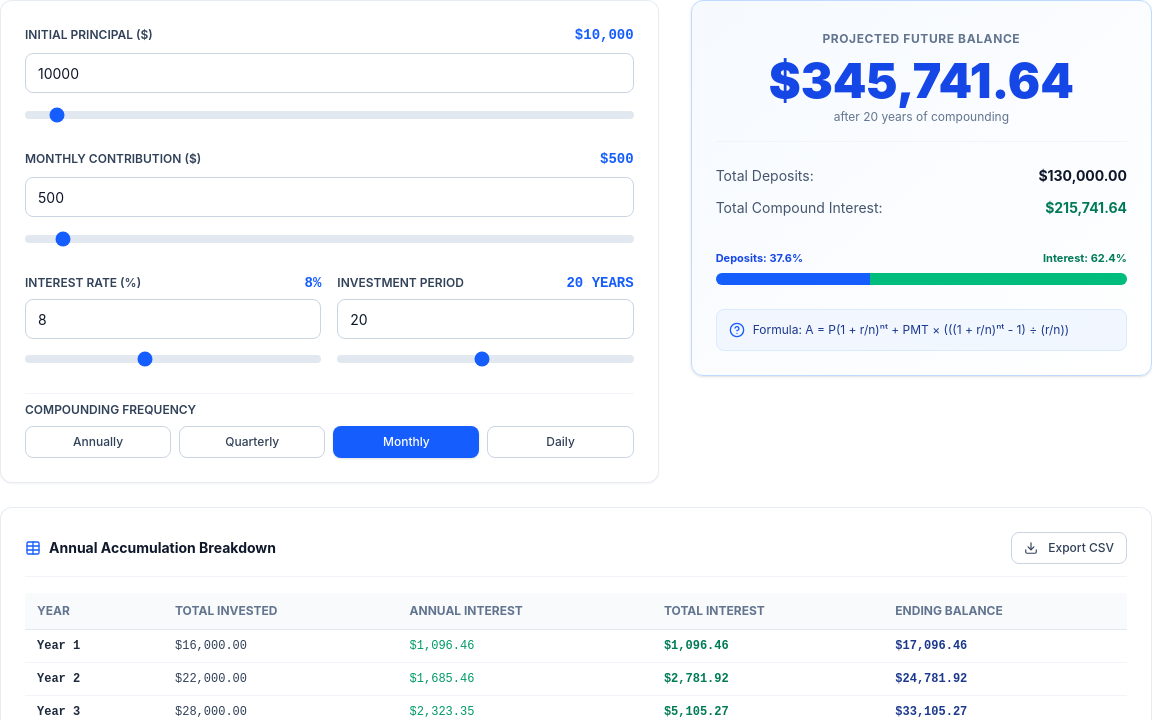
Test case: CALCULATOR TOOLS (4/4) › Compound Interest Calculator › handles 0% annual interest rate where future balance equals total deposits
Step 1. Replace the text in the number field named "annual interest rate" with "0" → (173, 319), box [25,299,321,339]
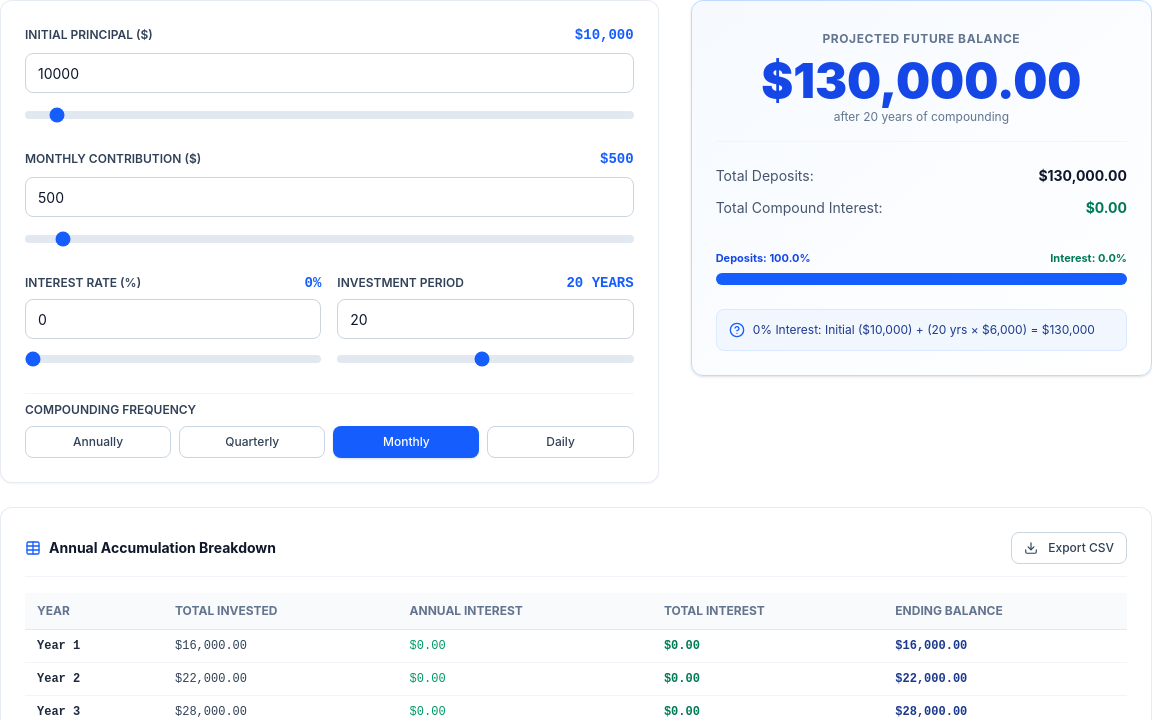
Result: the text "$130,000.00" below "Projected Future Balance" is shown at [761,51,1081,110]
Result: the text "$0.00" is shown at [1086,198,1127,218]
